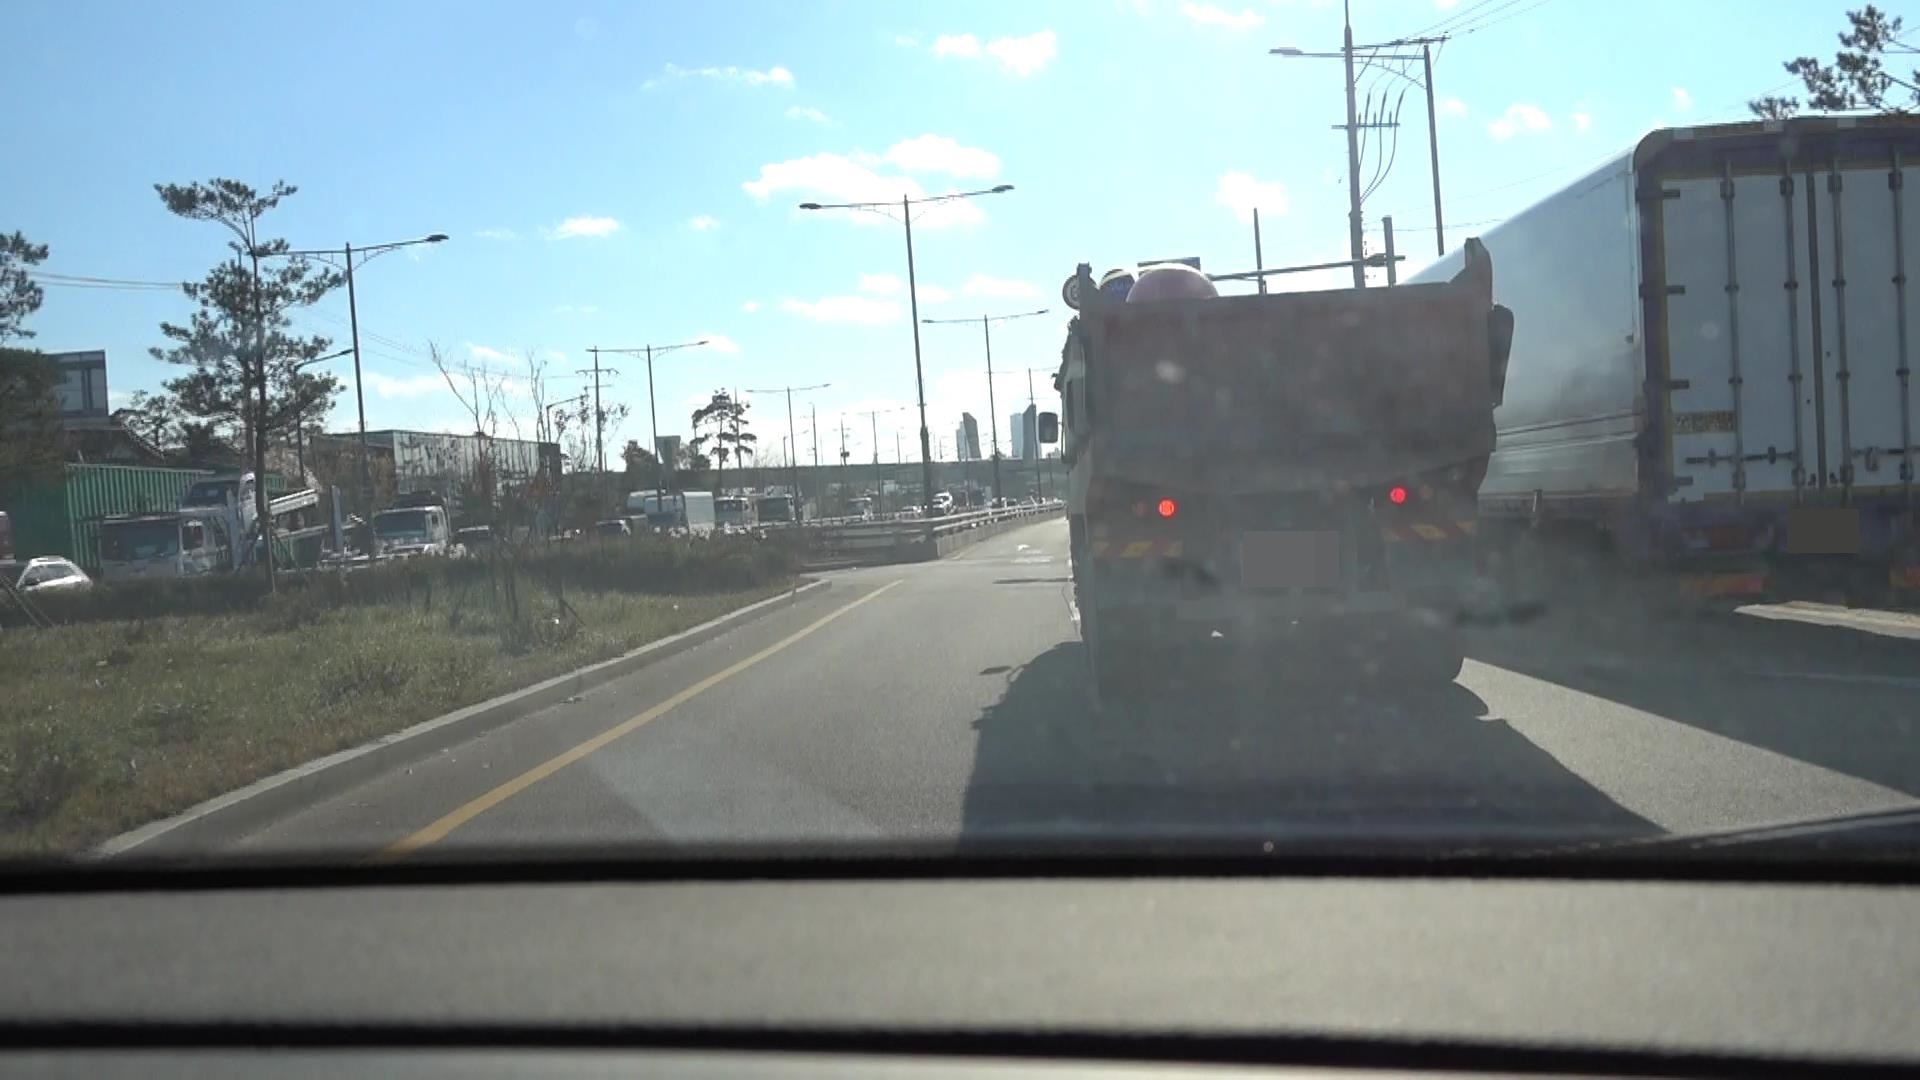불법차량: (1036, 237, 1514, 703)
